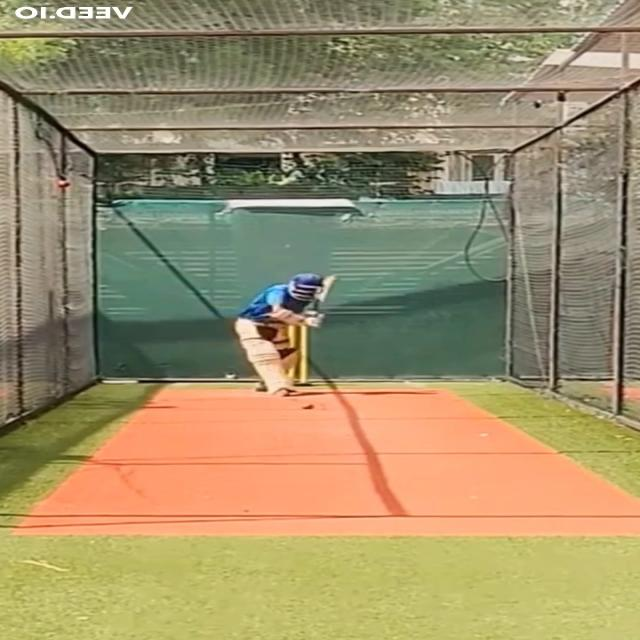ball: (299, 403, 317, 411)
stump: (285, 323, 311, 387)
